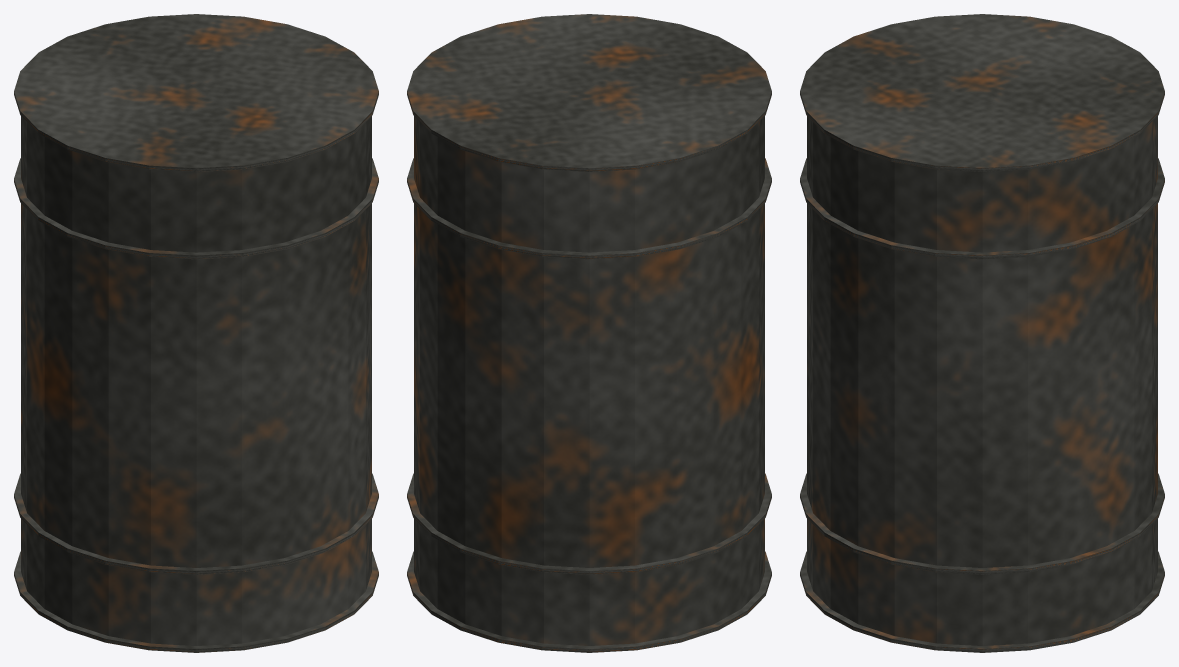
File: drum.glb
3 views of the same model, side by side, from view 1: azimuth 30°, elevation 25°; view 2: azimuth 150°, elevation 25°; view 3: azimuth 270°, elevation 25° (orthographic).
Visible parts, largest first — view 1: Badan.004, Cincin.019, Cincin.017, Cincin.016, Cincin.018; view 2: Badan.004, Cincin.019, Cincin.017, Cincin.016, Cincin.018; view 3: Badan.004, Cincin.019, Cincin.017, Cincin.016, Cincin.018.
Boxes of the visible parts, box(x1,y1,x2,y2) form: Badan.004: box(21, 116, 371, 645); Cincin.019: box(14, 14, 378, 171); Cincin.017: box(14, 473, 378, 574); Cincin.016: box(14, 551, 378, 652); Cincin.018: box(14, 158, 378, 259); Badan.004: box(414, 116, 764, 645); Cincin.019: box(407, 14, 771, 171); Cincin.017: box(407, 473, 771, 574); Cincin.016: box(407, 551, 771, 652); Cincin.018: box(407, 158, 771, 259); Badan.004: box(807, 116, 1157, 645); Cincin.019: box(800, 14, 1164, 171); Cincin.017: box(800, 473, 1164, 574); Cincin.016: box(800, 551, 1164, 652); Cincin.018: box(800, 158, 1164, 259).
Size of the model in its own units: 0.5928 by 0.872 by 0.5928.
Materials: 1 (1 with a texture image).
